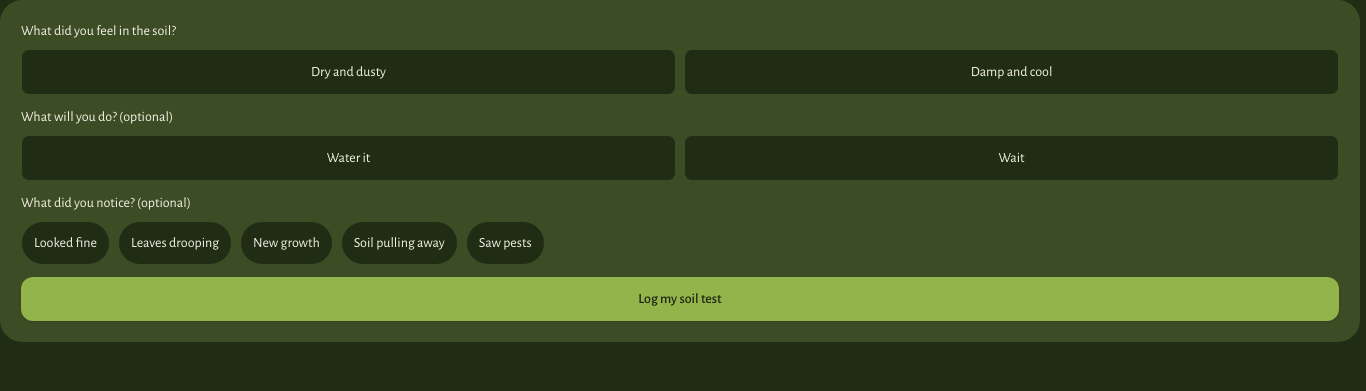
Test: SoilTestStep with plants › submitting before any plant has loaded asks the user to pick a plant
Click the button "Dry and dusty" at (348, 72), box [21,49,676,95]
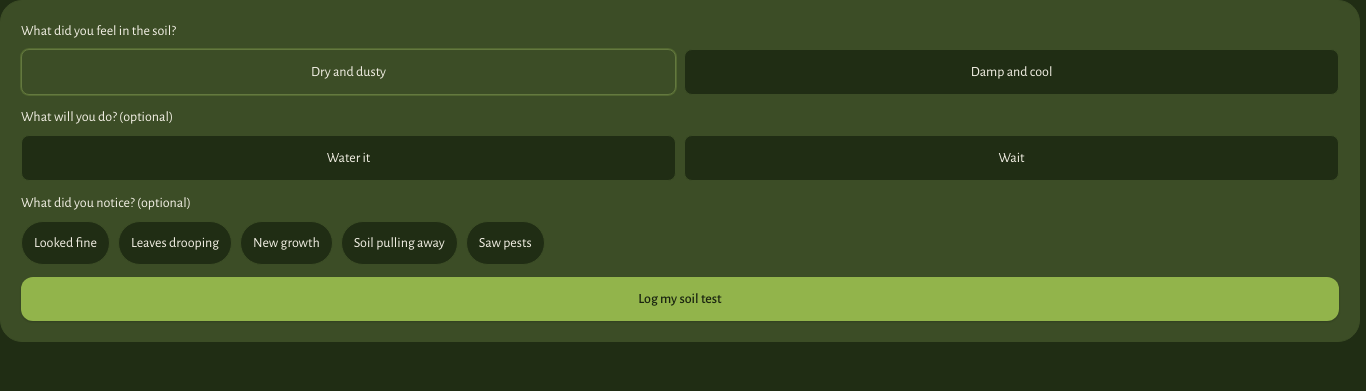
Click the button "Log my soil test" at (680, 299), box [21,277,1339,321]
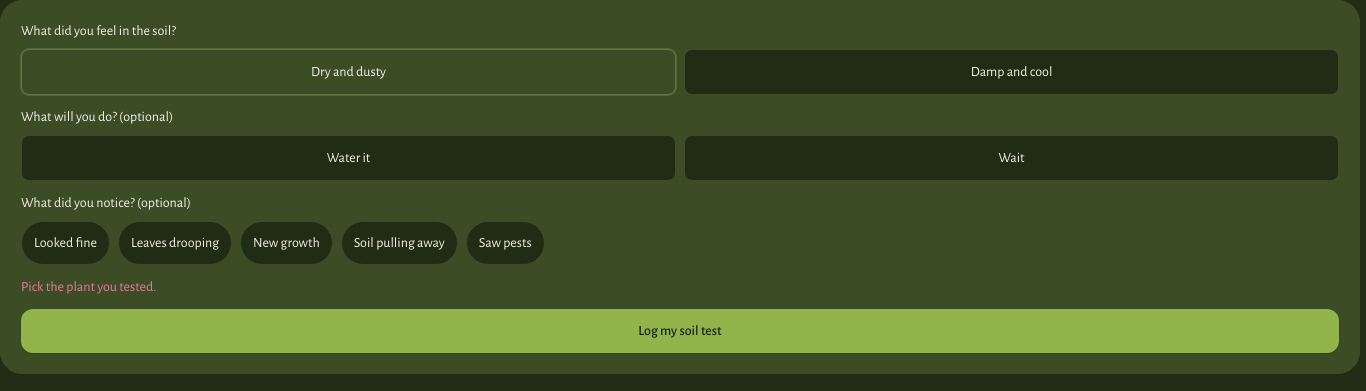
Now the message "Pick the plant you tested." is shown, box [21,280,156,294]
